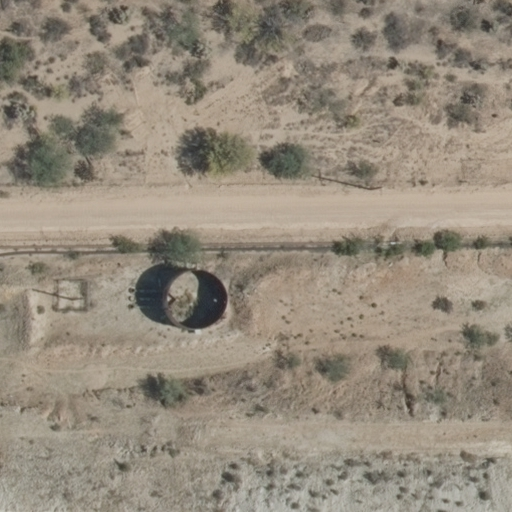DT: (359, 180, 393, 198)
